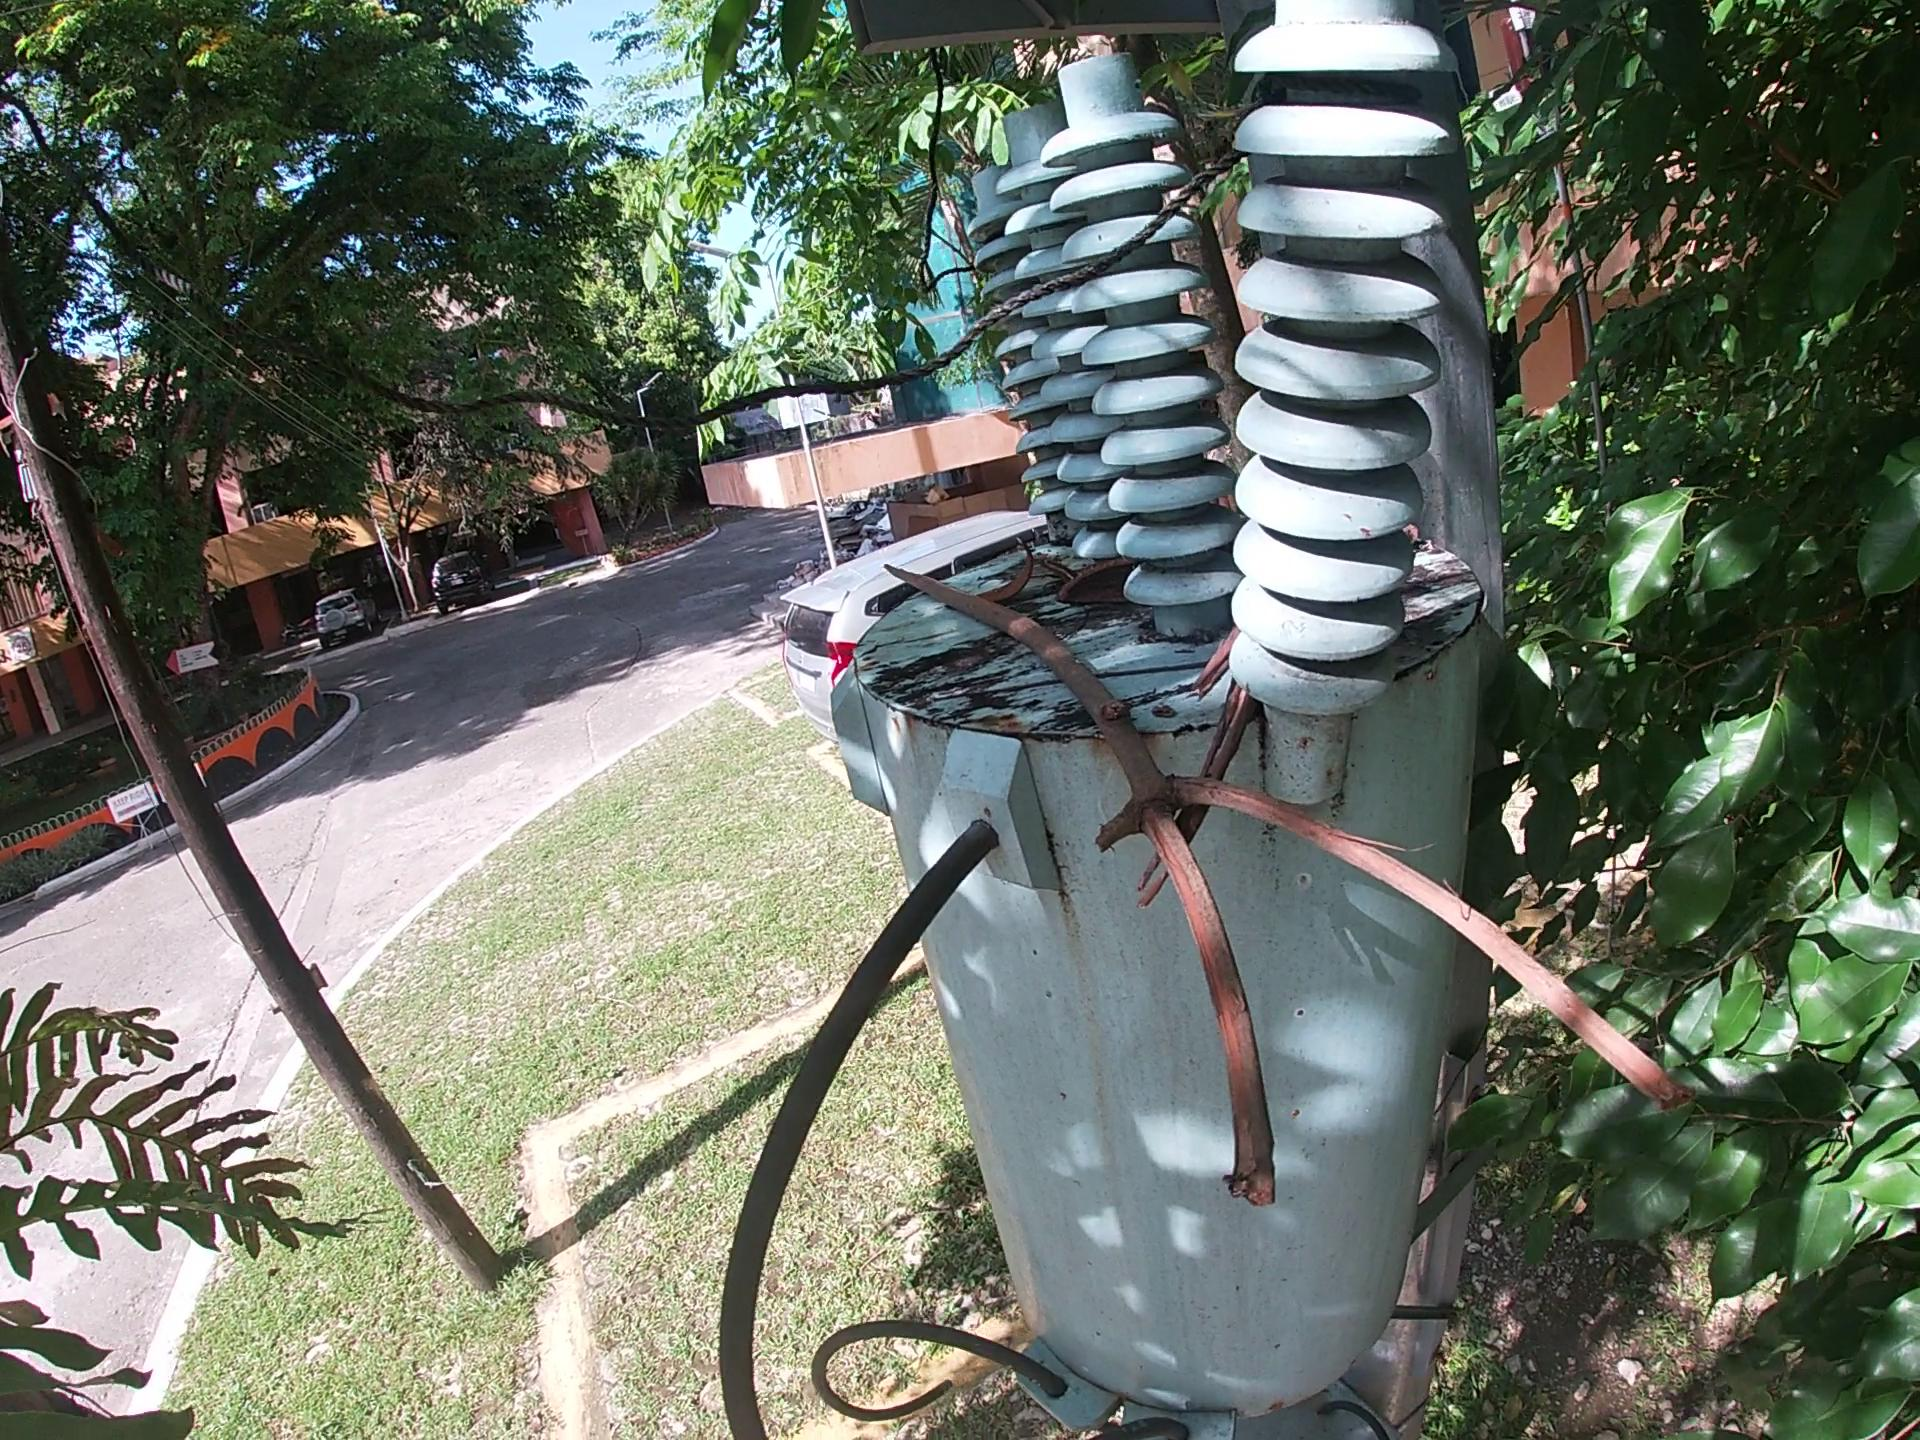mahogany fruit: (1058, 564, 1129, 629), (977, 542, 1042, 601)
tree branch: (880, 560, 1717, 1215), (1154, 691, 1271, 903), (934, 647, 1222, 711), (1176, 622, 1238, 697), (1048, 557, 1076, 579), (1406, 520, 1435, 540)
